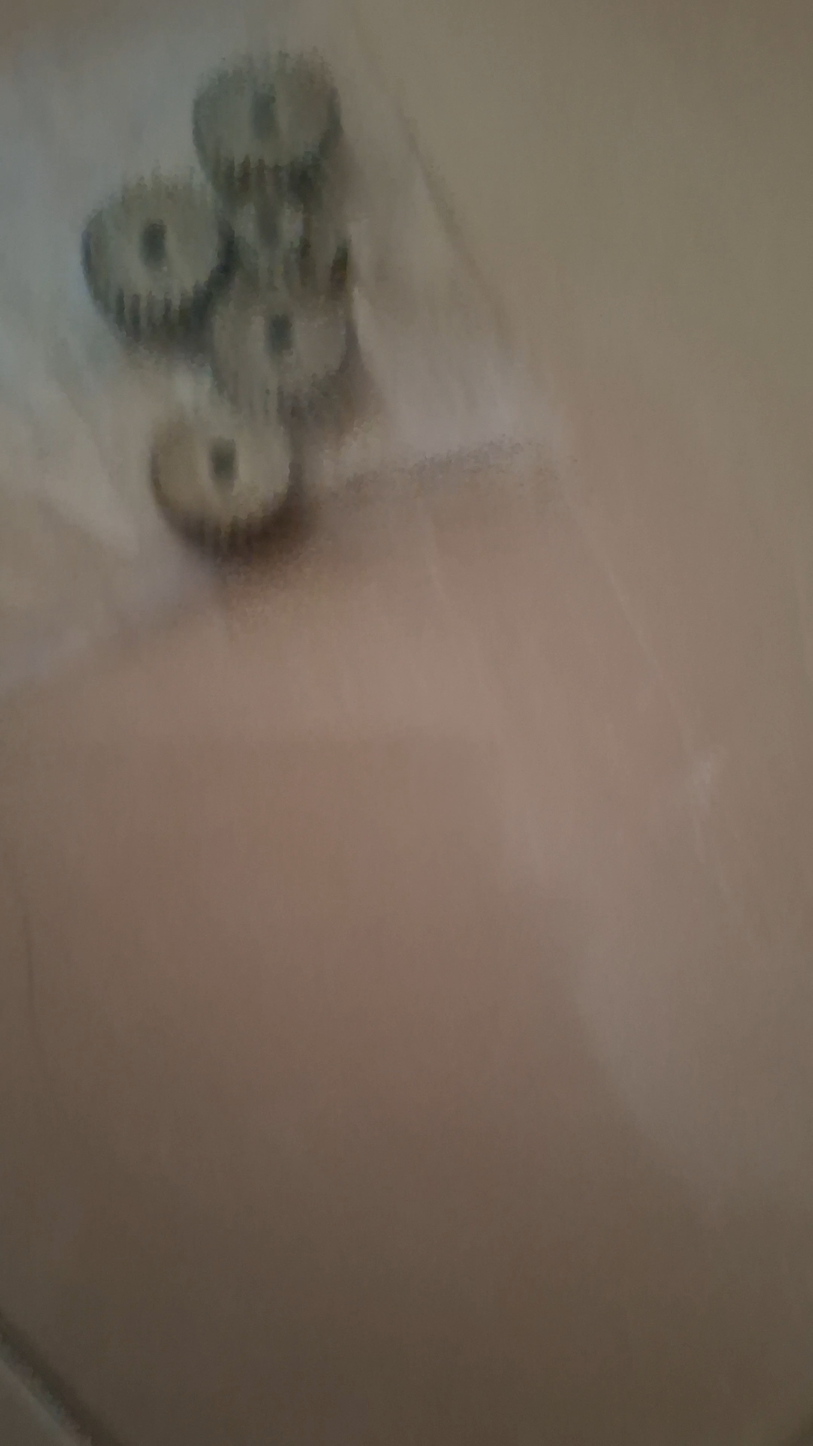spur gear: (82, 177, 233, 342), (193, 53, 340, 207), (151, 398, 291, 549), (210, 281, 350, 418), (232, 198, 350, 297)
